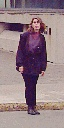person: (19, 22, 45, 111)
